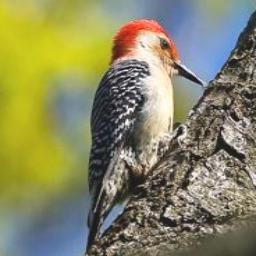Woodpecker: (86, 19, 210, 249)
